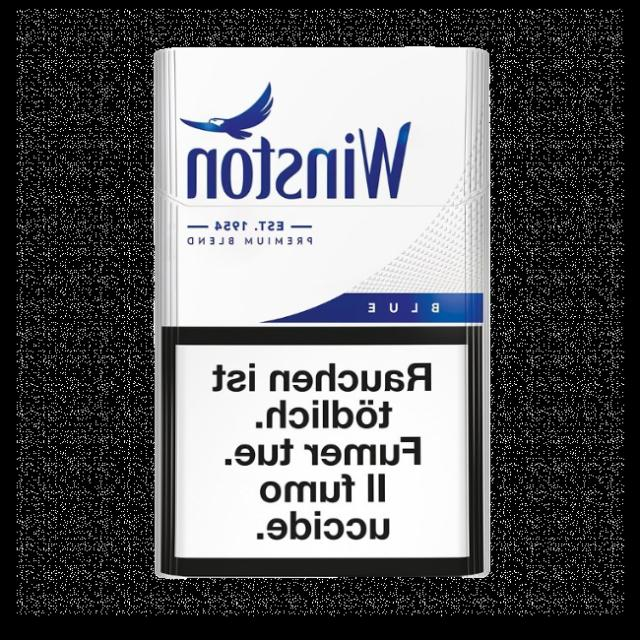winston: (151, 42, 493, 584)
